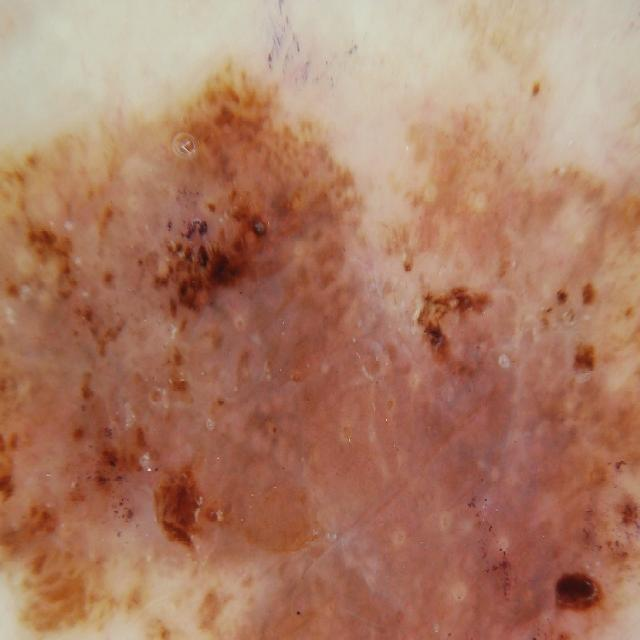Melanoma: (0, 66, 640, 640)
